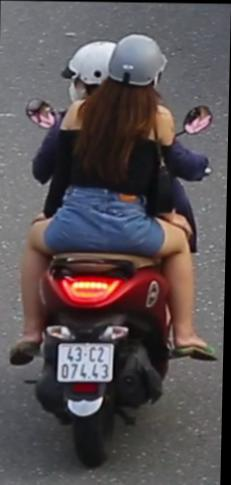LP: (55, 339, 115, 384)
helmet: (101, 29, 173, 113)
